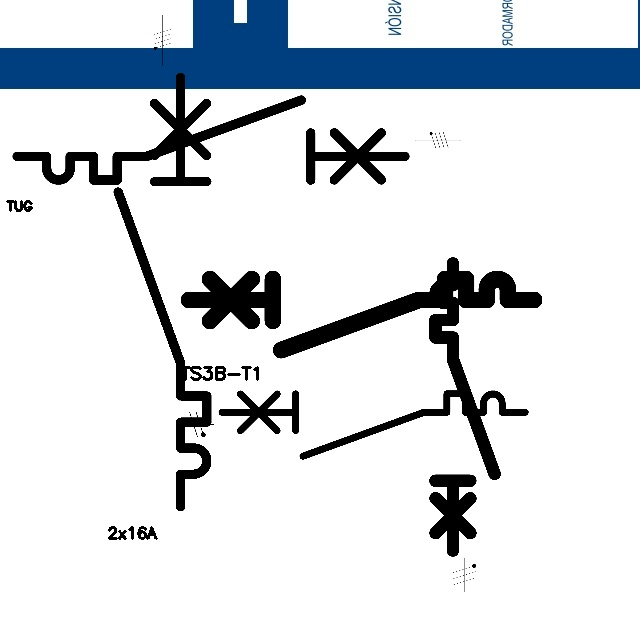interruptor_termomagnetico: (107, 66, 218, 518), (7, 90, 415, 190), (180, 270, 543, 359), (214, 386, 533, 464), (428, 256, 502, 558)
